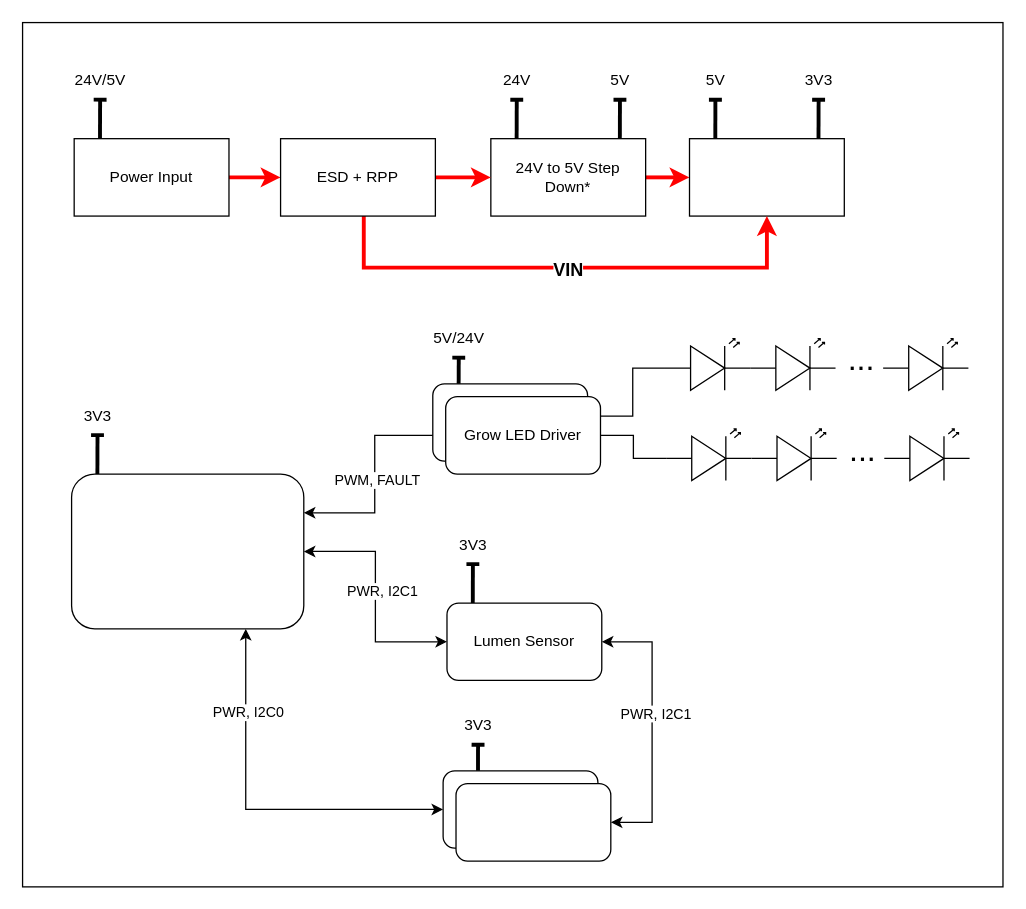
Some shapes in this 1026 by 909 pixel diagram are drawn without their labels. Each missing label, with the centre of its shape:
5V to 3V3 LDO: the point at 766,176
ESP32-MINI-1: the point at 187,551
Temp + Hum Sensor: the point at 533,821
